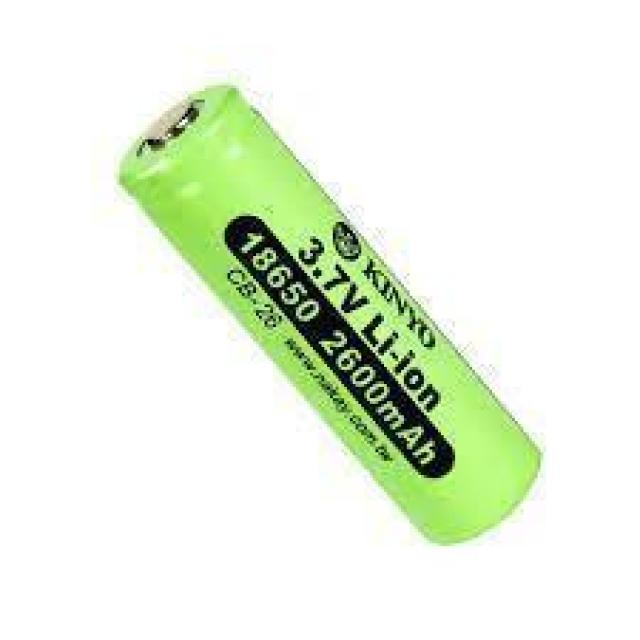AA: (111, 80, 550, 550)
